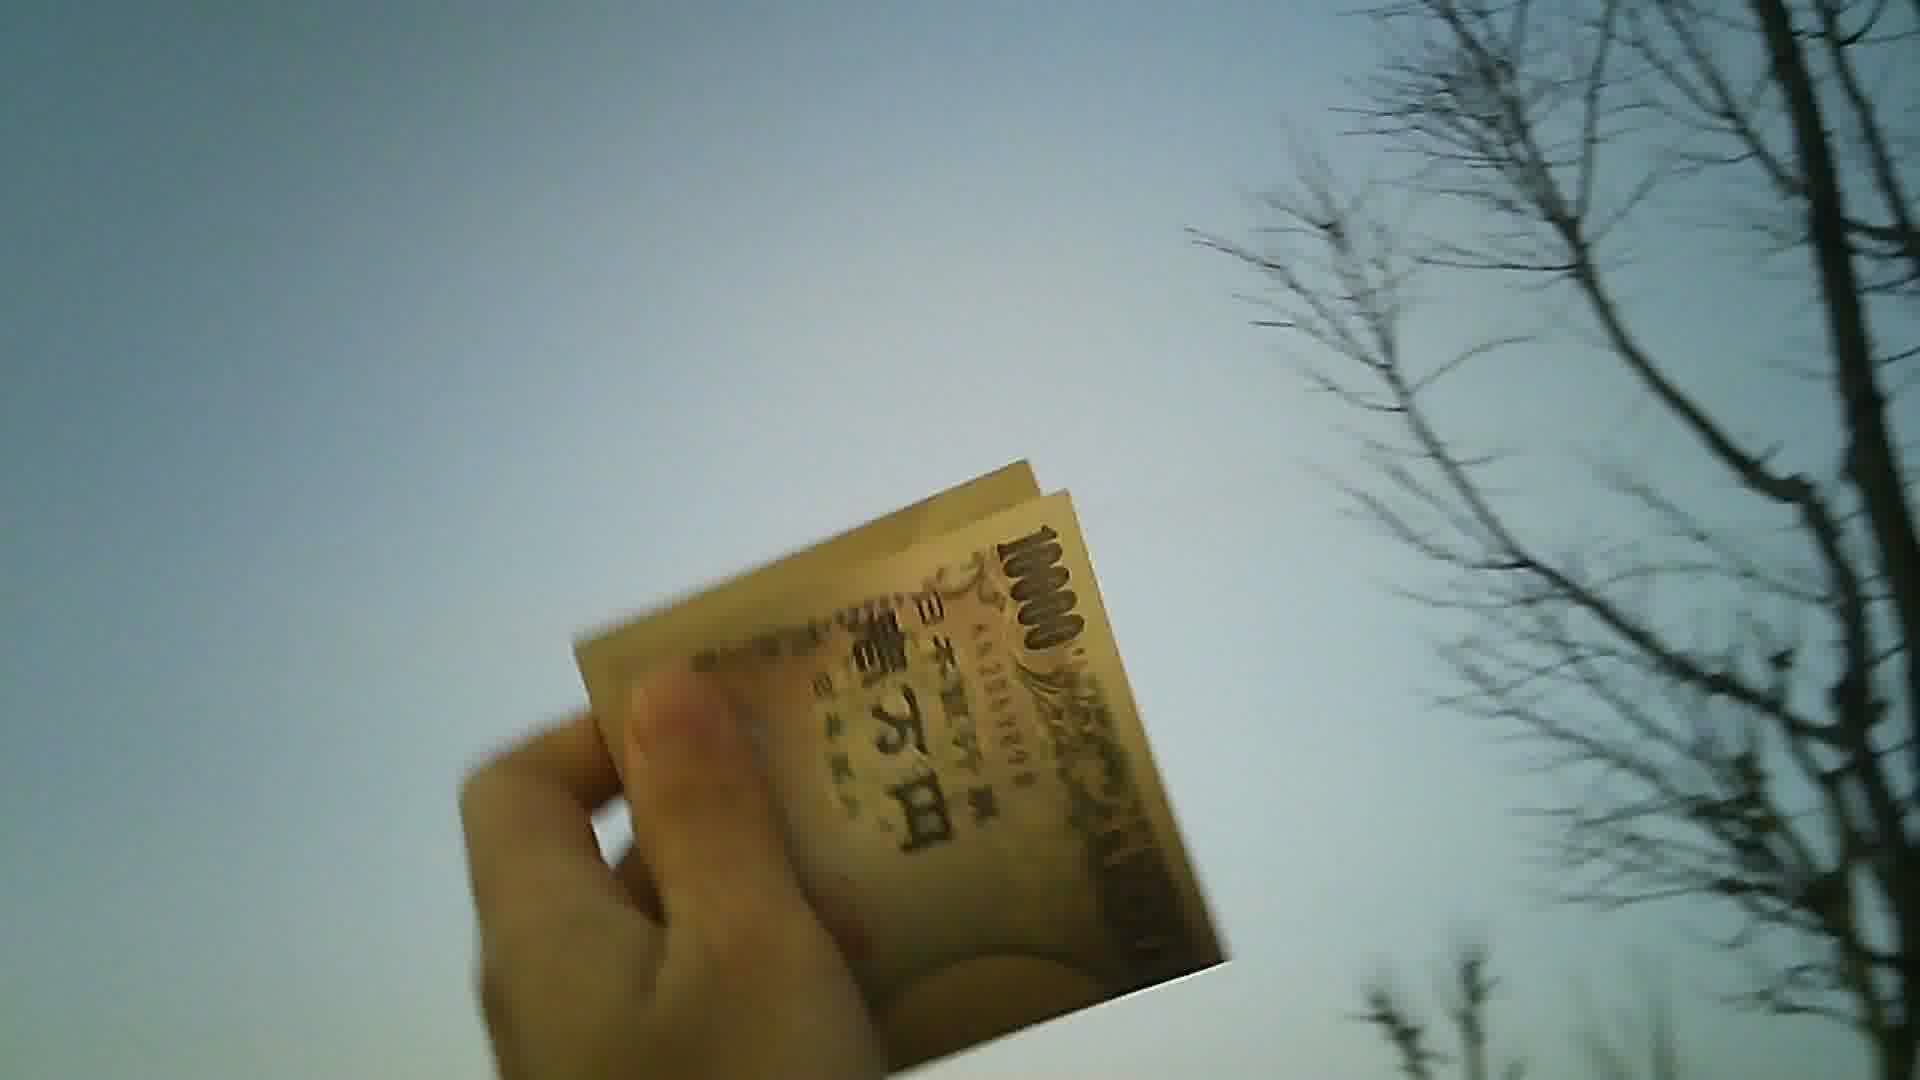10,000 Yen: (555, 469, 1266, 1079)
